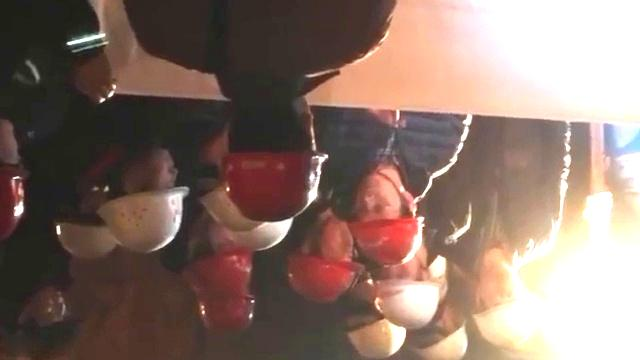helmet: (220, 95, 329, 223), (95, 148, 189, 254), (346, 173, 425, 268), (283, 220, 366, 303), (471, 262, 537, 349), (192, 160, 267, 232), (374, 253, 444, 329), (53, 194, 117, 260), (342, 299, 406, 358), (1, 119, 31, 240), (411, 303, 468, 360), (196, 292, 255, 337), (224, 217, 294, 253)
